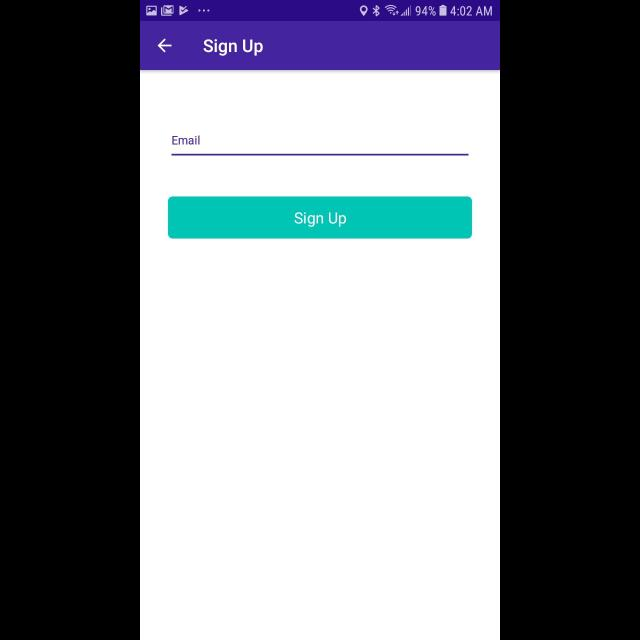icon: (158, 38, 172, 54)
text: (172, 136, 468, 156), (204, 40, 264, 56)
textbutton: (168, 197, 472, 239)
uppertaskbar: (140, 1, 500, 22)
